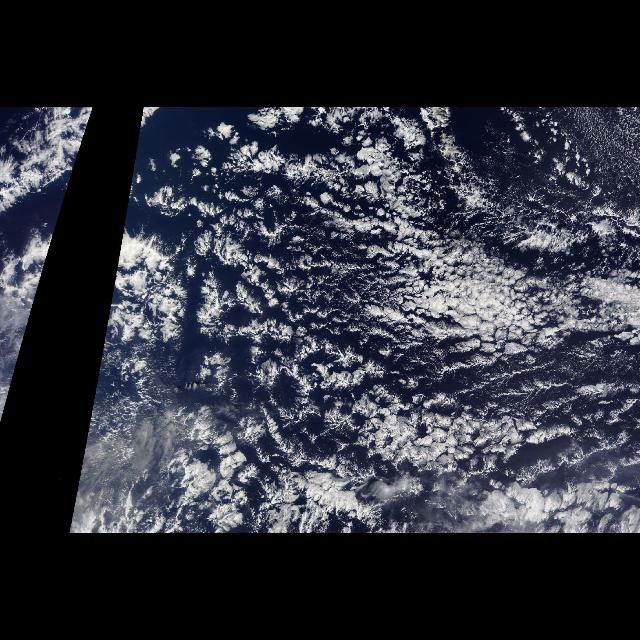Flower: (179, 134, 629, 474)
Gravel: (173, 126, 632, 424)
